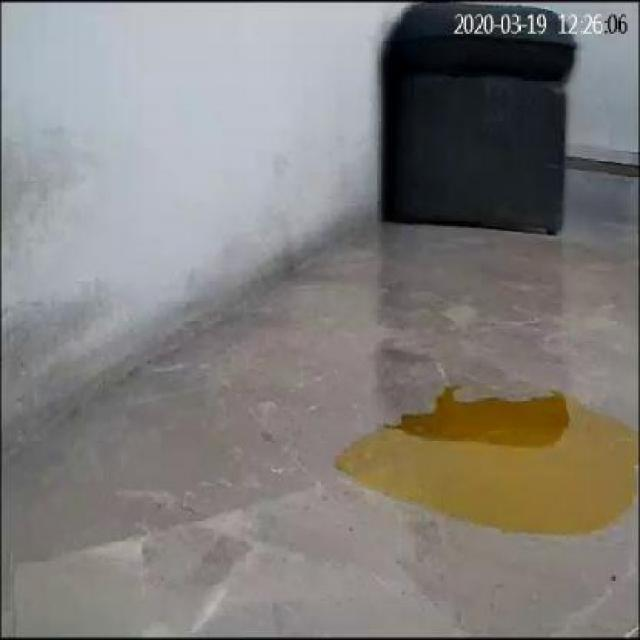spill: (336, 390, 633, 535)
